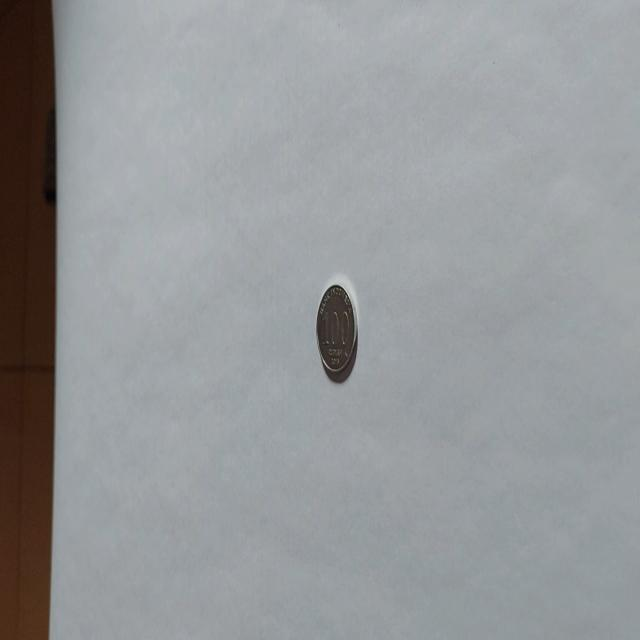seratus rupiah: (315, 282, 358, 382)
